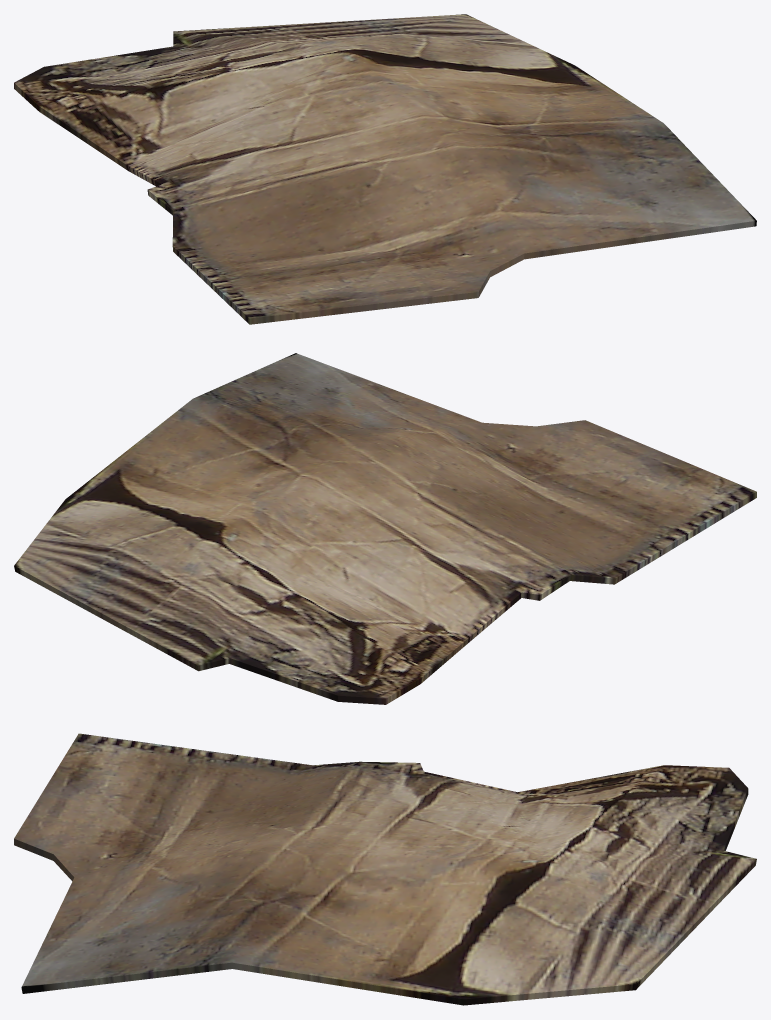
File: Garbage1G.fbx
The picture shows the model from 3 angles, top to bottom: view 1: azimuth 30°, elevation 25°; view 2: azimuth 150°, elevation 25°; view 3: azimuth 270°, elevation 25°; orthographic projection. The views are drawn at different scales.
Parts seen in each view (by area): view 1: polySurface852; view 2: polySurface852; view 3: polySurface852.
Part boxes in pixels (x1=…): polySurface852: x1=14, y1=14, x2=756, y2=324; polySurface852: x1=14, y1=353, x2=756, y2=704; polySurface852: x1=14, y1=733, x2=756, y2=1005.
Size of the model in its own units: 0.8358 by 0.0856 by 0.987.
